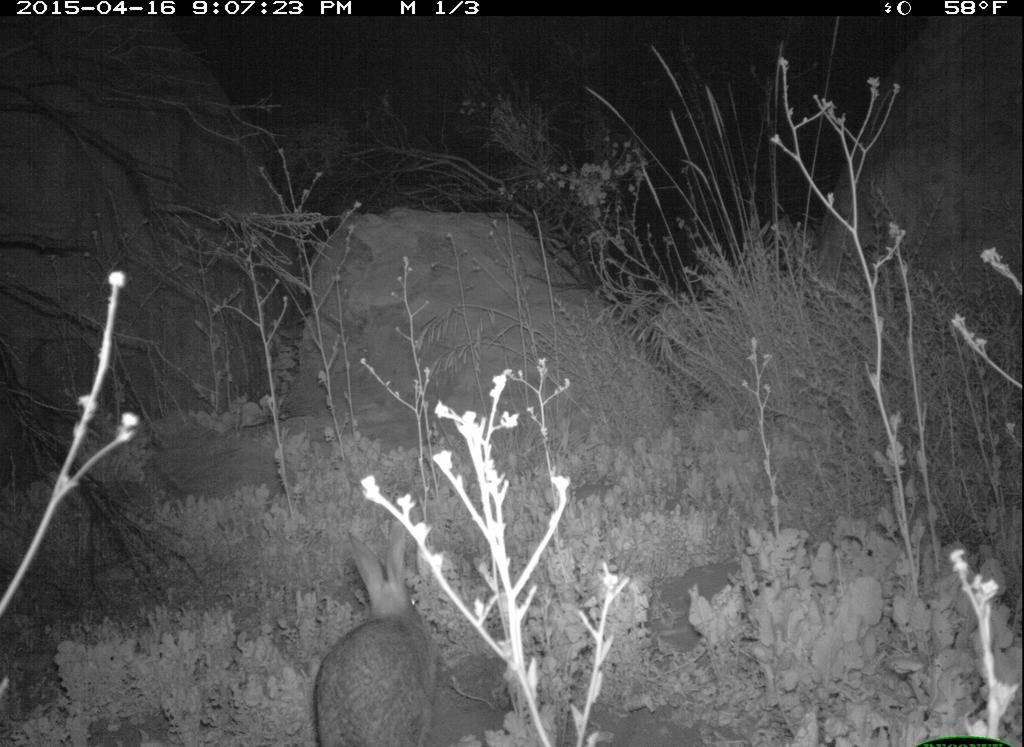rabbit: (308, 534, 450, 747)
